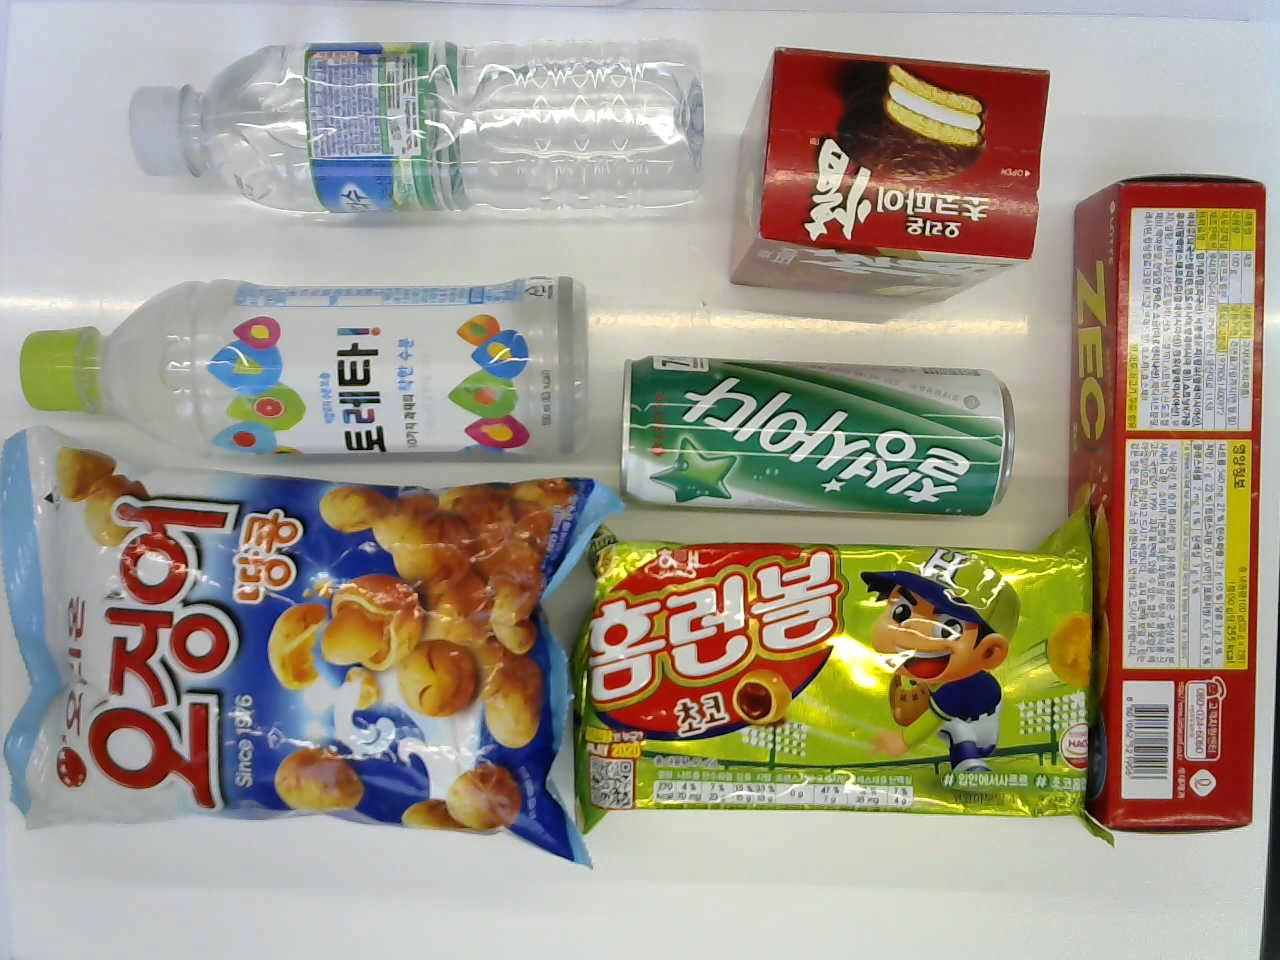chocopie: (727, 48, 1053, 301)
cidar: (611, 350, 1030, 526)
homerunball: (559, 521, 1100, 857)
samdasu: (135, 32, 707, 217)
squid_peanut: (5, 465, 596, 849)
toreta: (19, 262, 594, 464)
zec: (1066, 153, 1270, 853)
